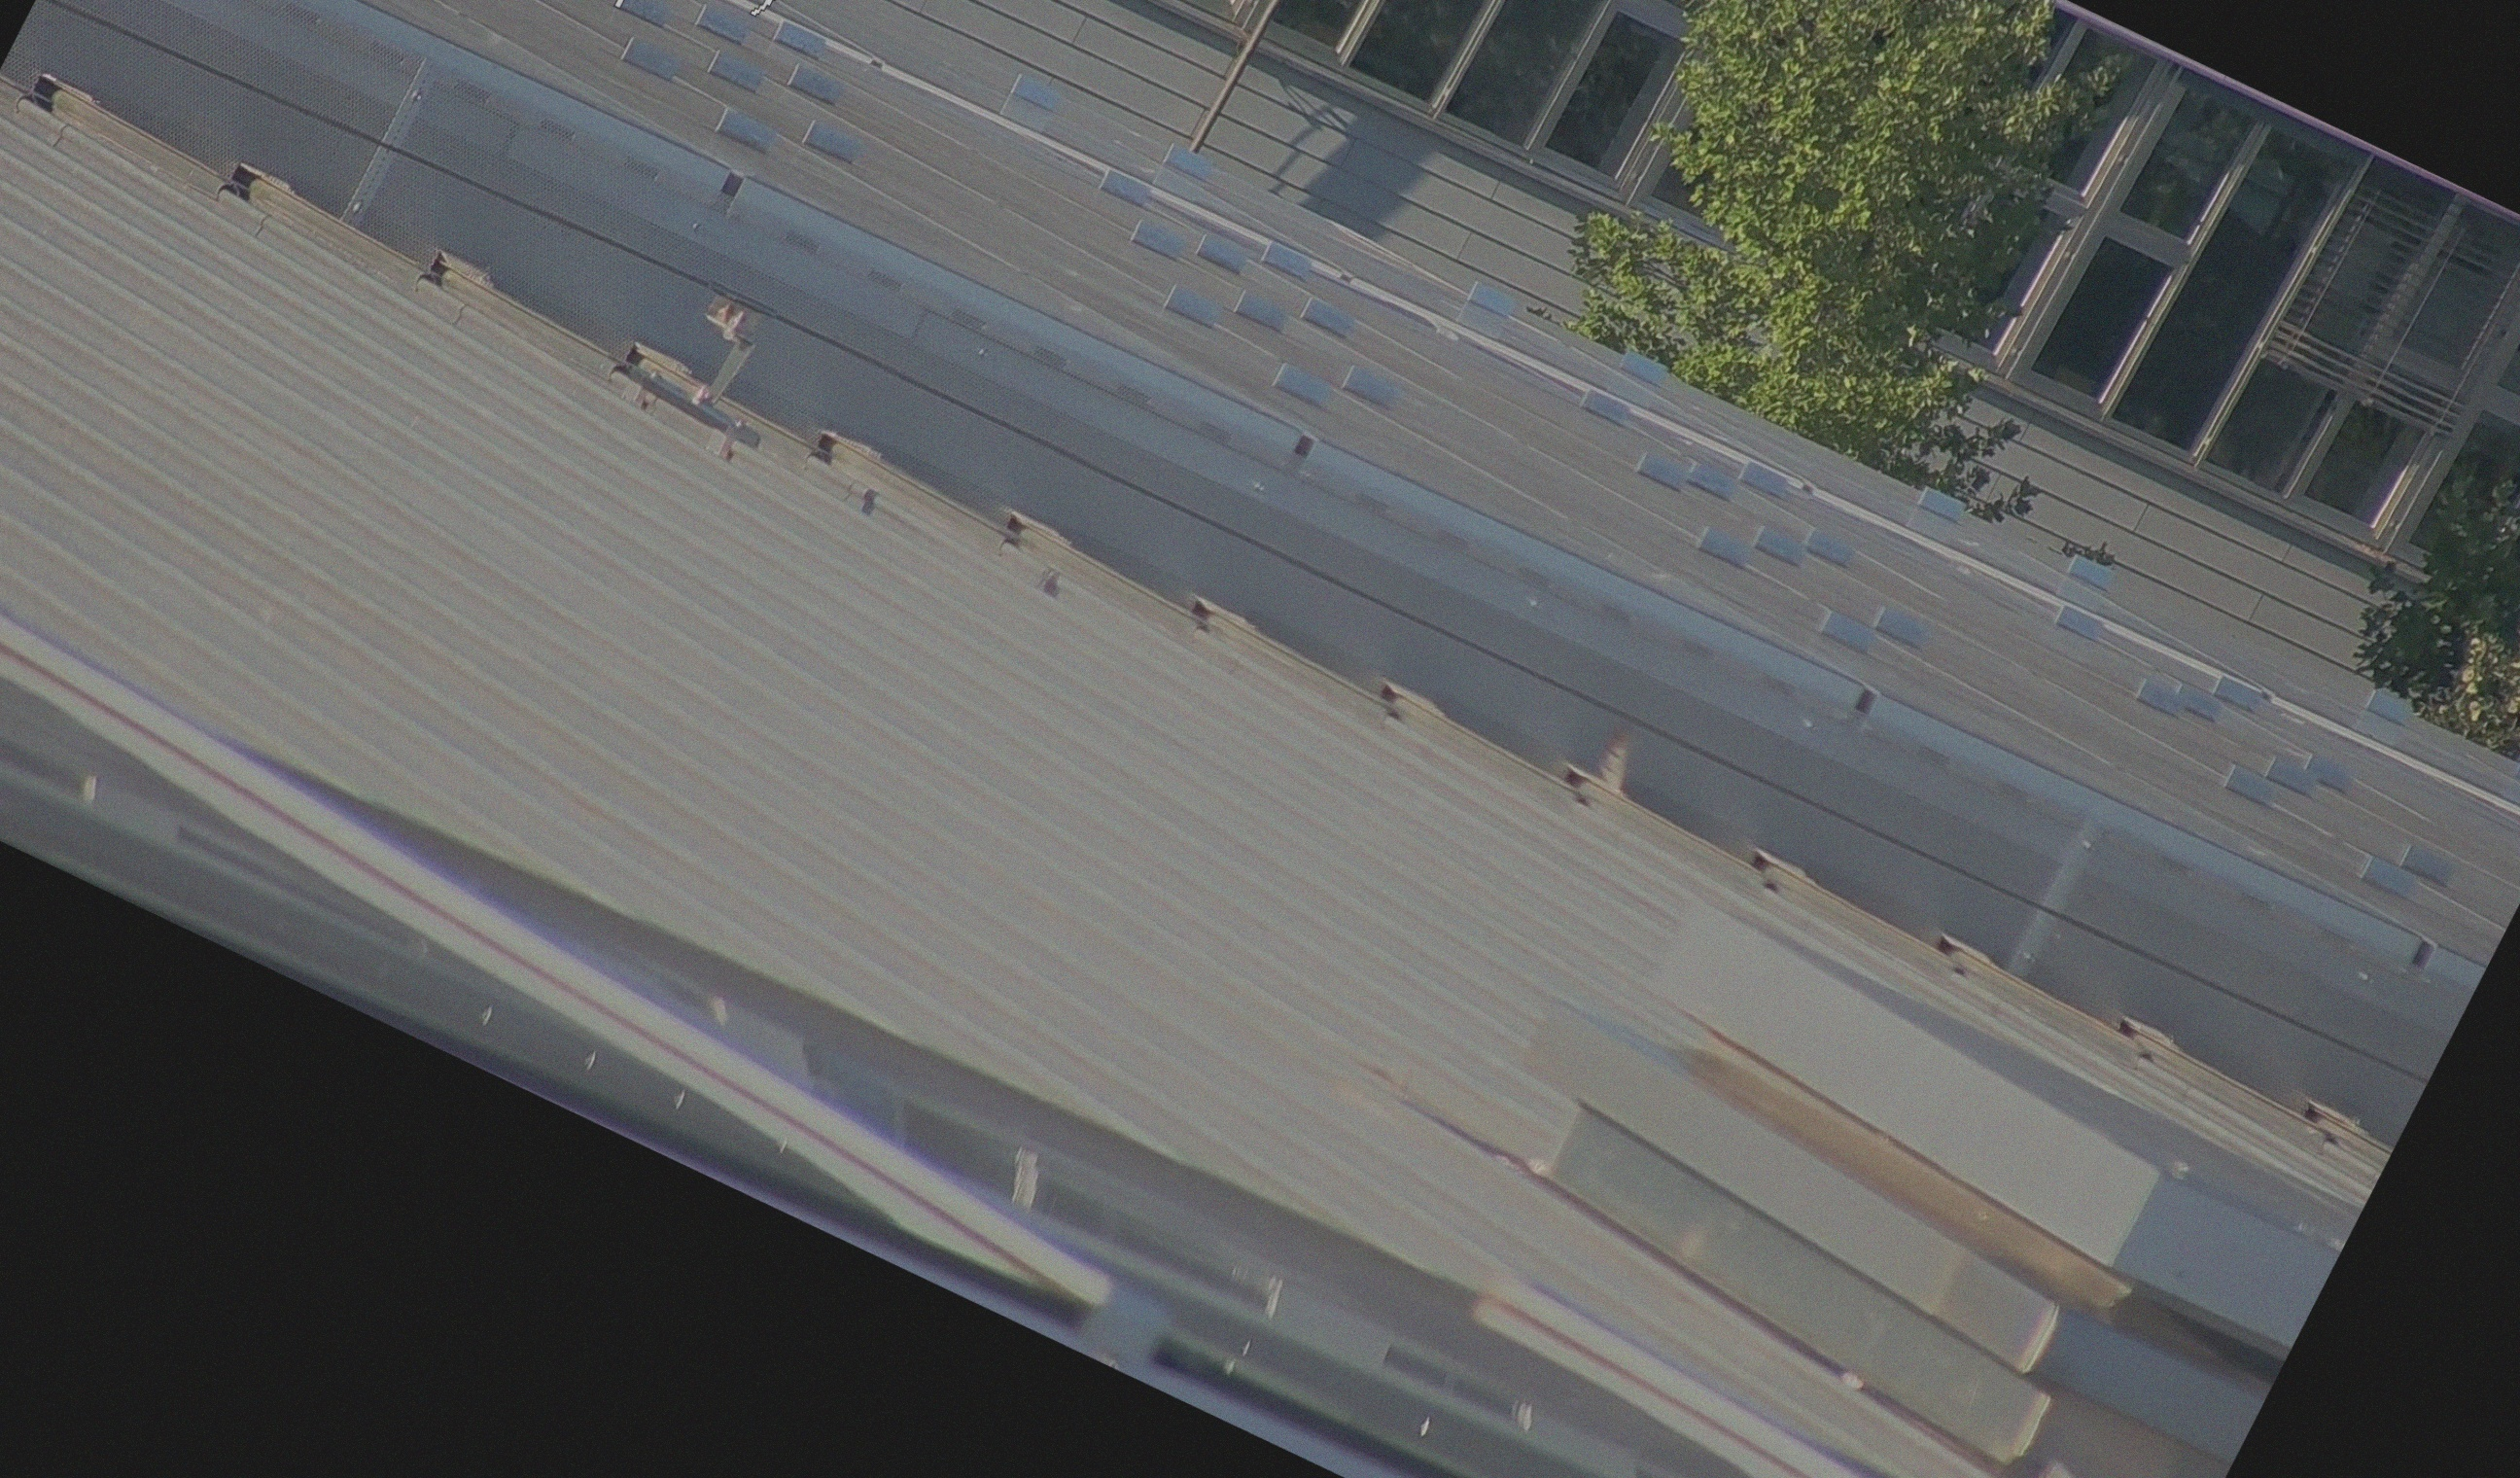Other: (1553, 700, 1676, 832)
